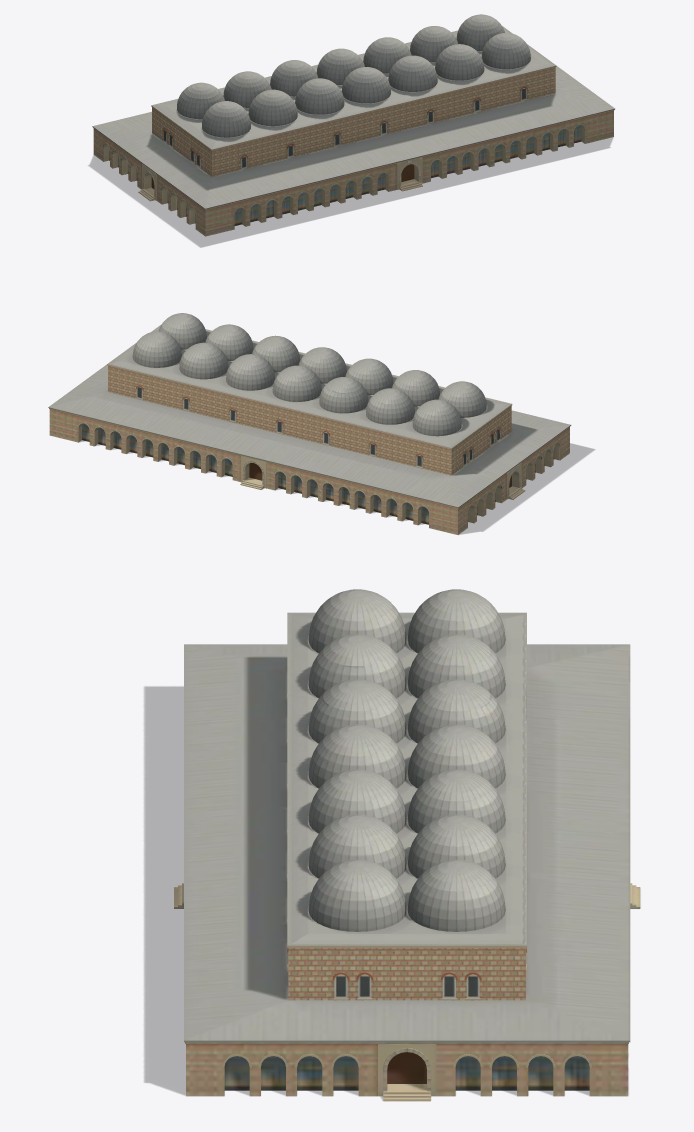
The model's file is bedesten_v11_harita_pisik.glb.
3 renders of one model, top to bottom at view 1: azimuth 30°, elevation 25°; view 2: azimuth 150°, elevation 25°; view 3: azimuth 270°, elevation 25°, orthographic. The views are drawn at different scales.
Parts seen in each view (by area): view 1: Dukkanlar, Kubbeler, Govde, Harita_Golge, Govde_Ortu, Kapilar; view 2: Dukkanlar, Kubbeler, Govde, Govde_Ortu, Harita_Golge, Kapilar; view 3: Dukkanlar, Kubbeler, Govde_Ortu, Harita_Golge, Govde, Kapilar.
Part boxes in pixels (x1,y1,x2,y2): Dukkanlar: (92,26,614,236); Kubbeler: (177,14,530,137); Govde: (152,26,555,176); Harita_Golge: (88,137,613,247); Govde_Ortu: (154,29,552,148); Kapilar: (138,157,422,201); Dukkanlar: (48,324,571,534); Kubbeler: (132,313,486,436); Govde: (108,325,511,475); Govde_Ortu: (110,327,508,446); Harita_Golge: (80,440,594,534); Kapilar: (240,456,525,499); Dukkanlar: (184,612,630,1096); Kubbeler: (308,589,505,931); Govde_Ortu: (291,614,522,943); Harita_Golge: (144,686,589,1100); Govde: (287,613,526,1000); Kapilar: (174,883,640,1101).
Bounding box in the file's own units: 86.16 × 14.2 × 50.43.
Materials: 2 (2 with a texture image).
